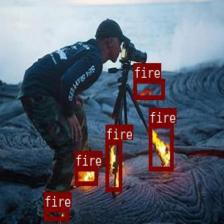fire: (148, 122, 172, 170), (105, 140, 121, 192), (133, 78, 164, 99), (75, 167, 98, 185), (44, 206, 68, 219)
